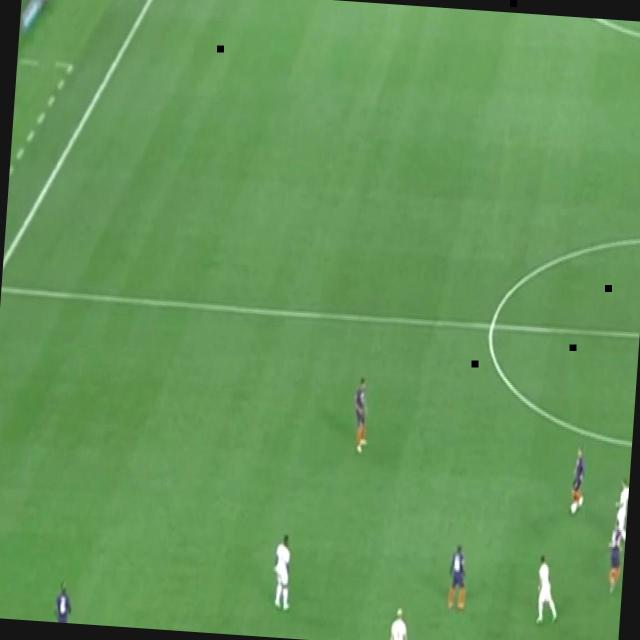player-white: (532, 552, 564, 630), (268, 532, 296, 615), (443, 539, 473, 615), (349, 373, 375, 460), (604, 474, 630, 556), (602, 514, 626, 600), (566, 443, 590, 518), (52, 574, 78, 624), (385, 601, 412, 640)
